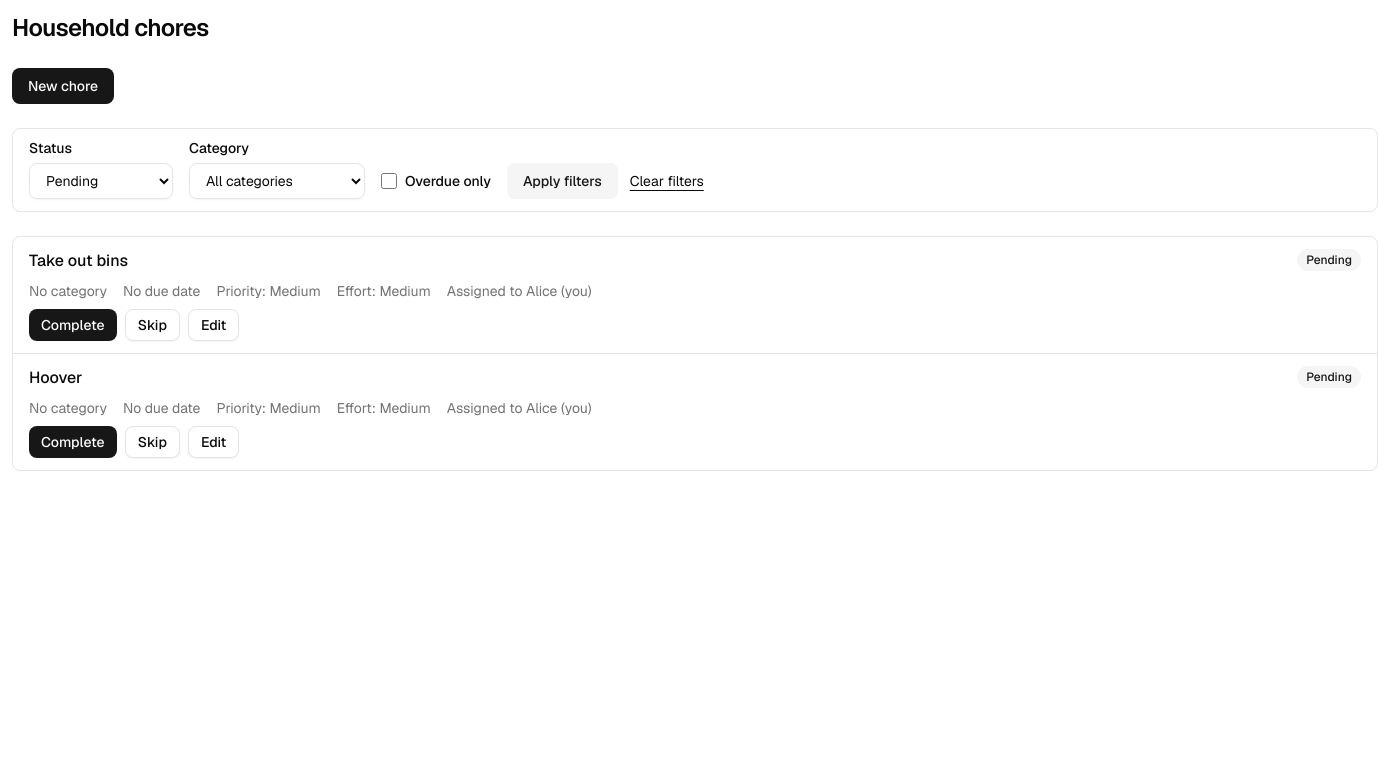
Test case: /chores outcome message across server re-renders › shows a refusal as an alert, replacing the previous message
The image size is (1378, 780).
Click the button "Complete" below "Take out bins": (73, 325) [29,309,117,341]
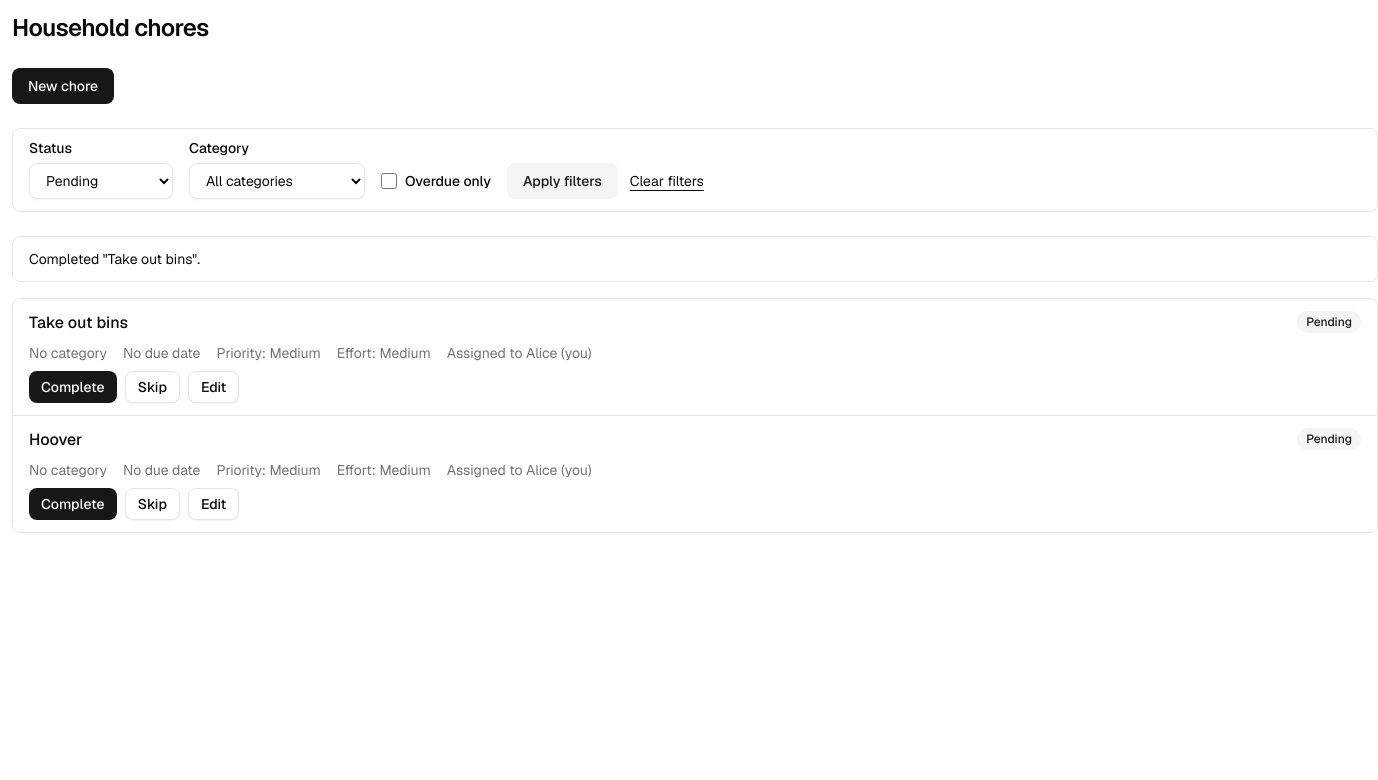
Result: the message "Completed \"Take out bins\"." reads "Completed \"Take out bins\"." at [29,250,200,268]
Click the button "Complete" below "Hoover": (73, 504) [29,488,117,520]
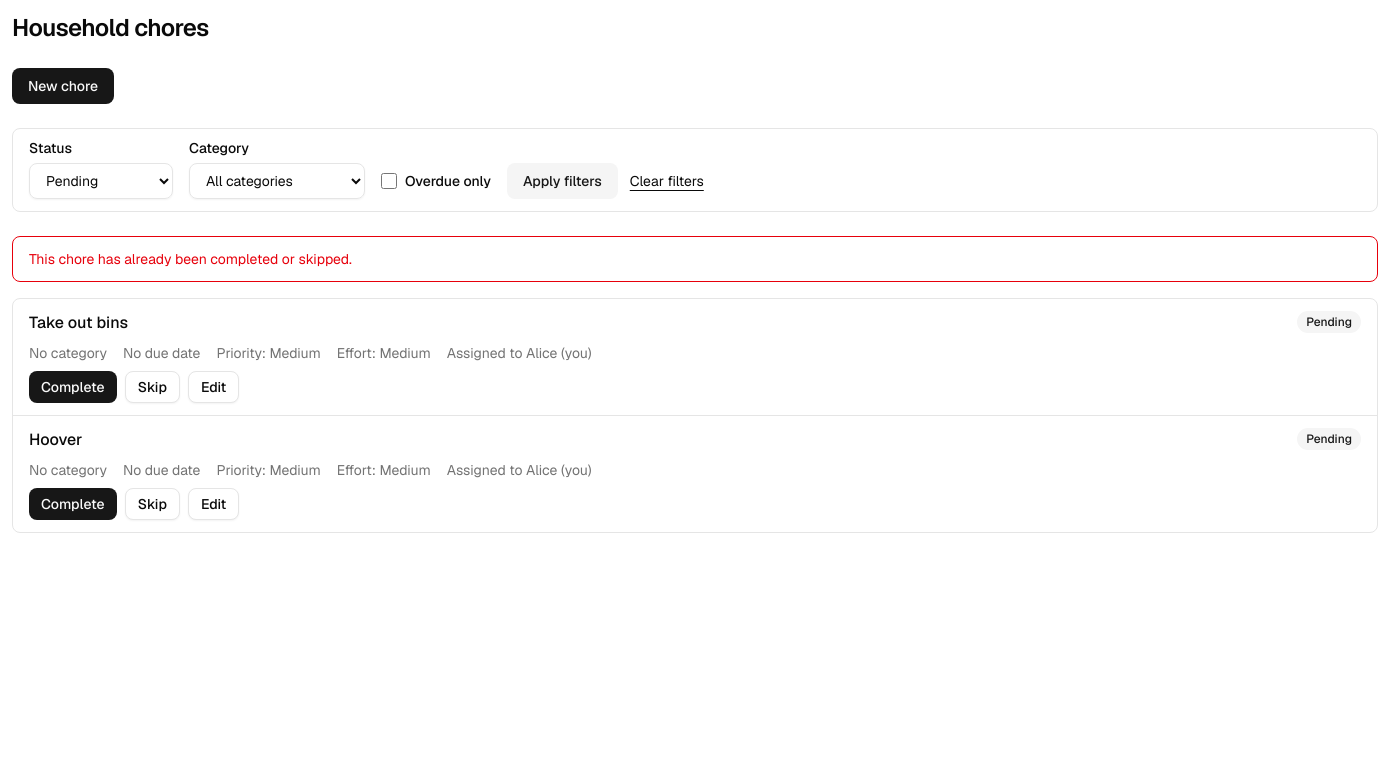
Result: the message "This chore has already been completed or skipped." is shown at [12,236,1377,298]
